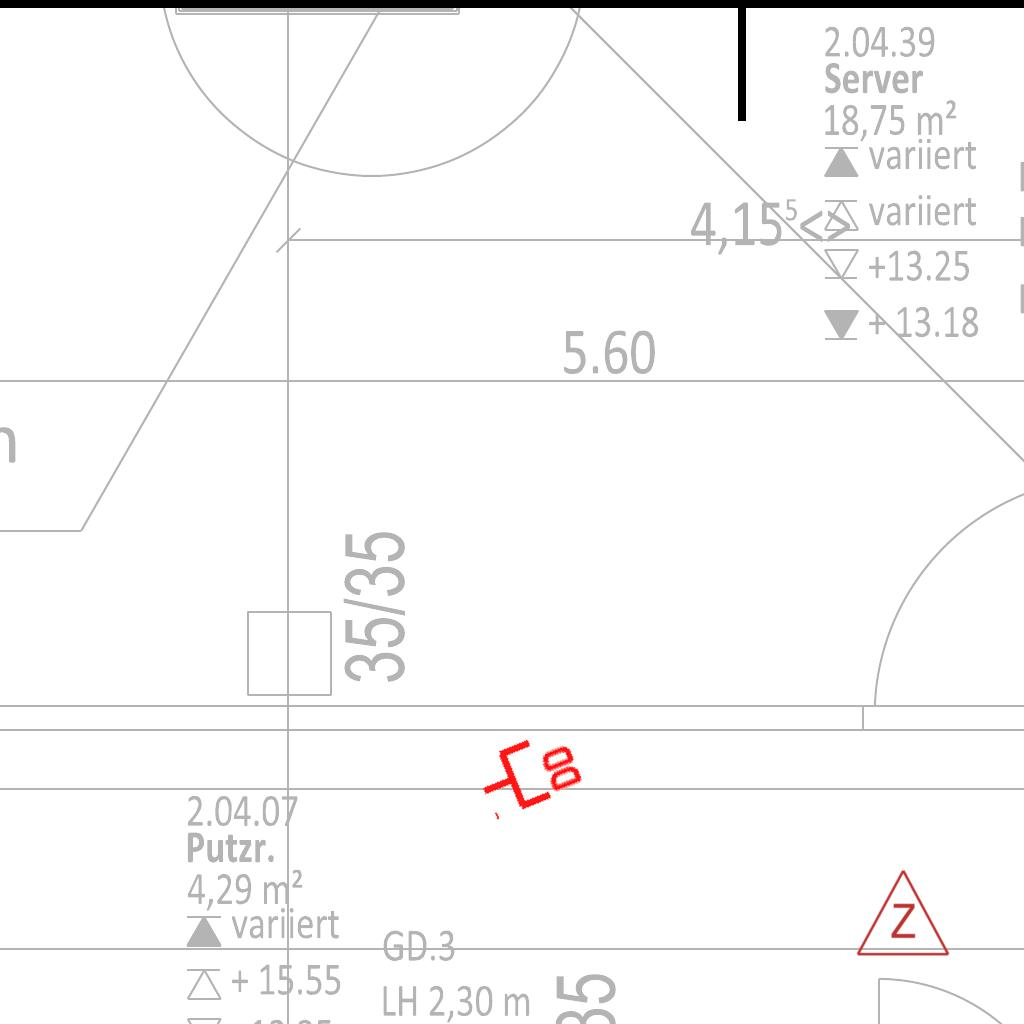Datenanschluss_zweifach: (467, 720, 590, 823)
Zimmersignalleuchte: (853, 863, 951, 963)
